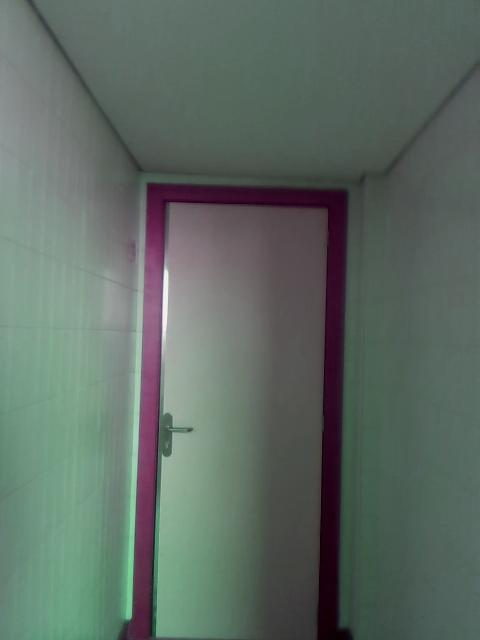closed_door: (119, 184, 347, 638)
